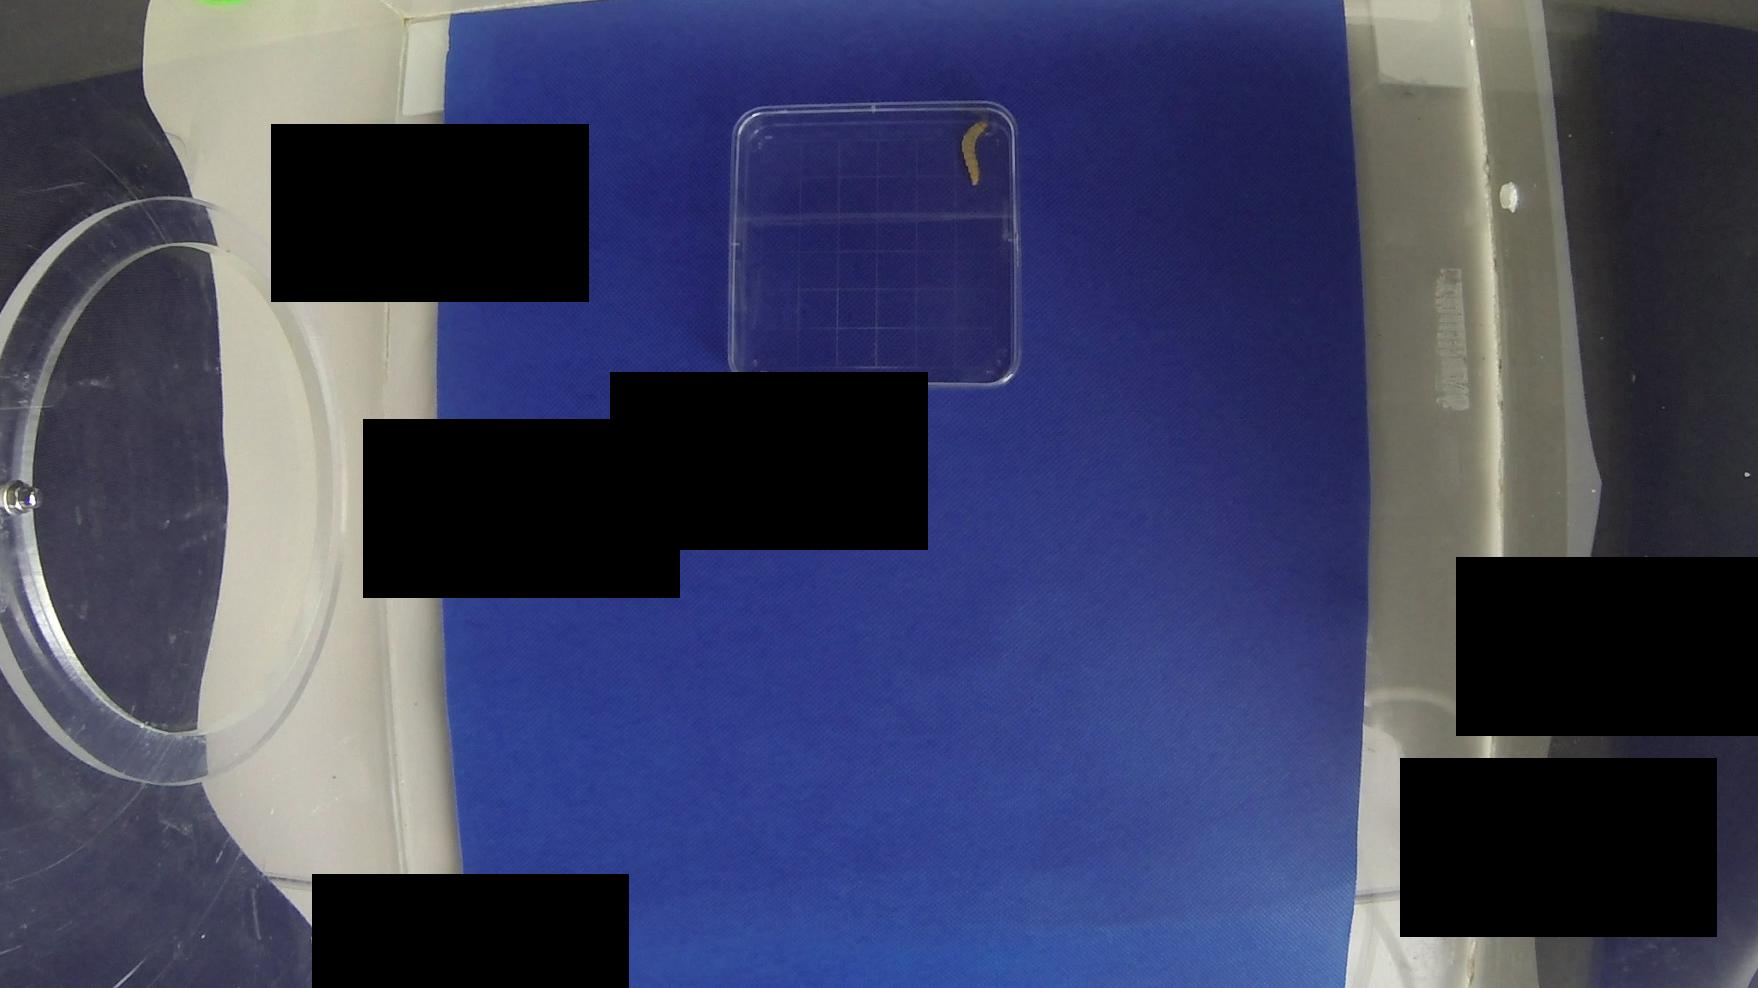larva: (952, 114, 993, 189)
